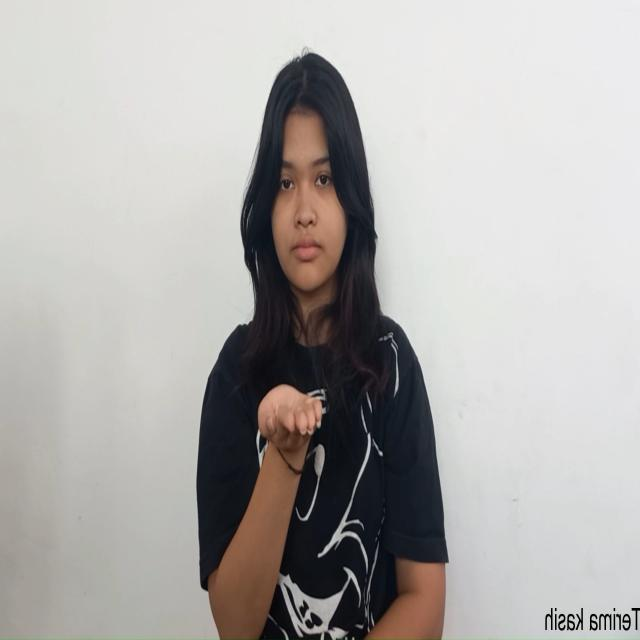Terima kasih -BISINDO-: (256, 379, 324, 470)
